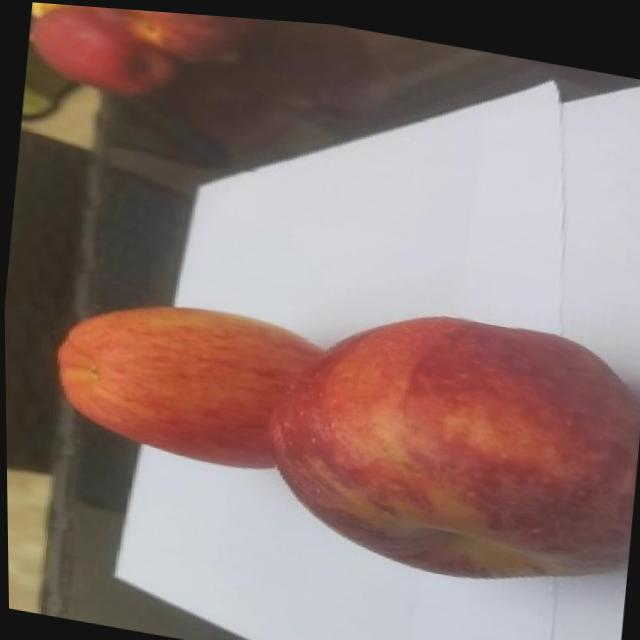Apple: (249, 280, 640, 601), (39, 276, 333, 480), (24, 1, 187, 101), (75, 4, 257, 63)
